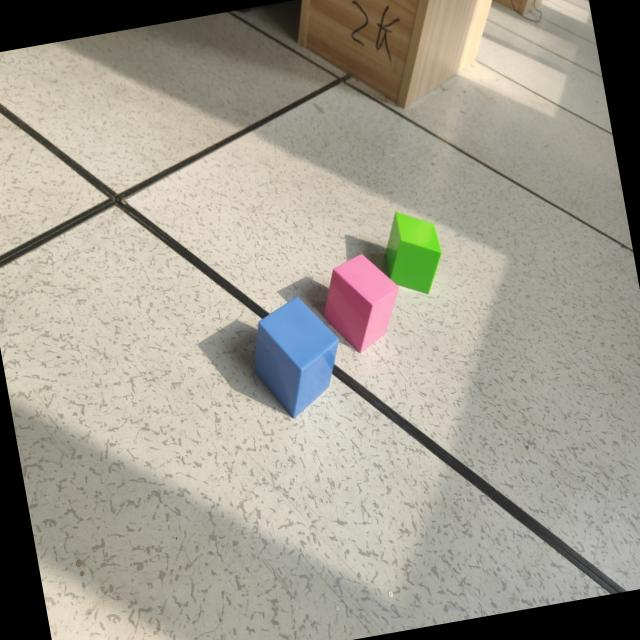blue: (254, 298, 340, 418)
green: (383, 212, 444, 299)
pink: (321, 254, 399, 354)
